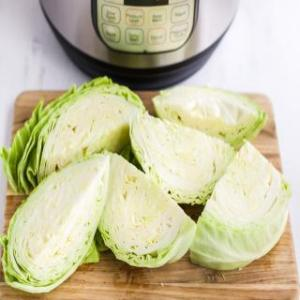cabbage: (1, 74, 148, 194), (3, 152, 113, 294), (190, 140, 298, 274), (102, 148, 198, 272), (127, 109, 240, 207), (151, 83, 269, 151)
